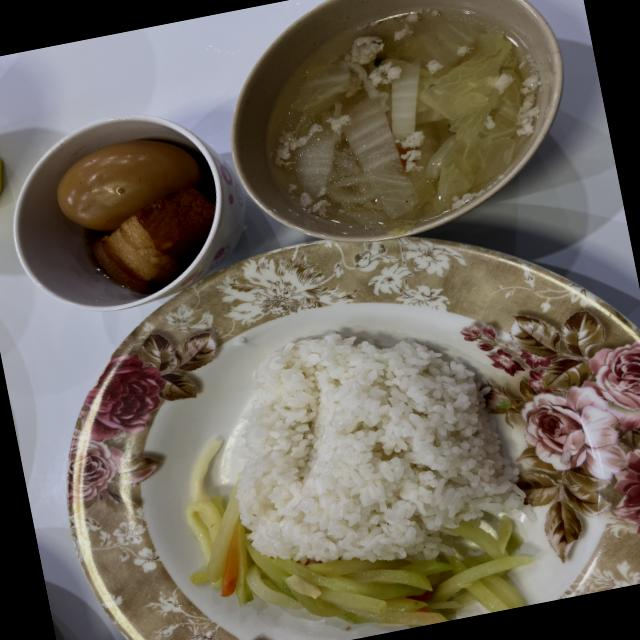canh cai: (267, 8, 549, 235)
com: (235, 335, 522, 562), (120, 197, 124, 201)
kho trung: (58, 140, 216, 292)
rau: (186, 441, 534, 626)
